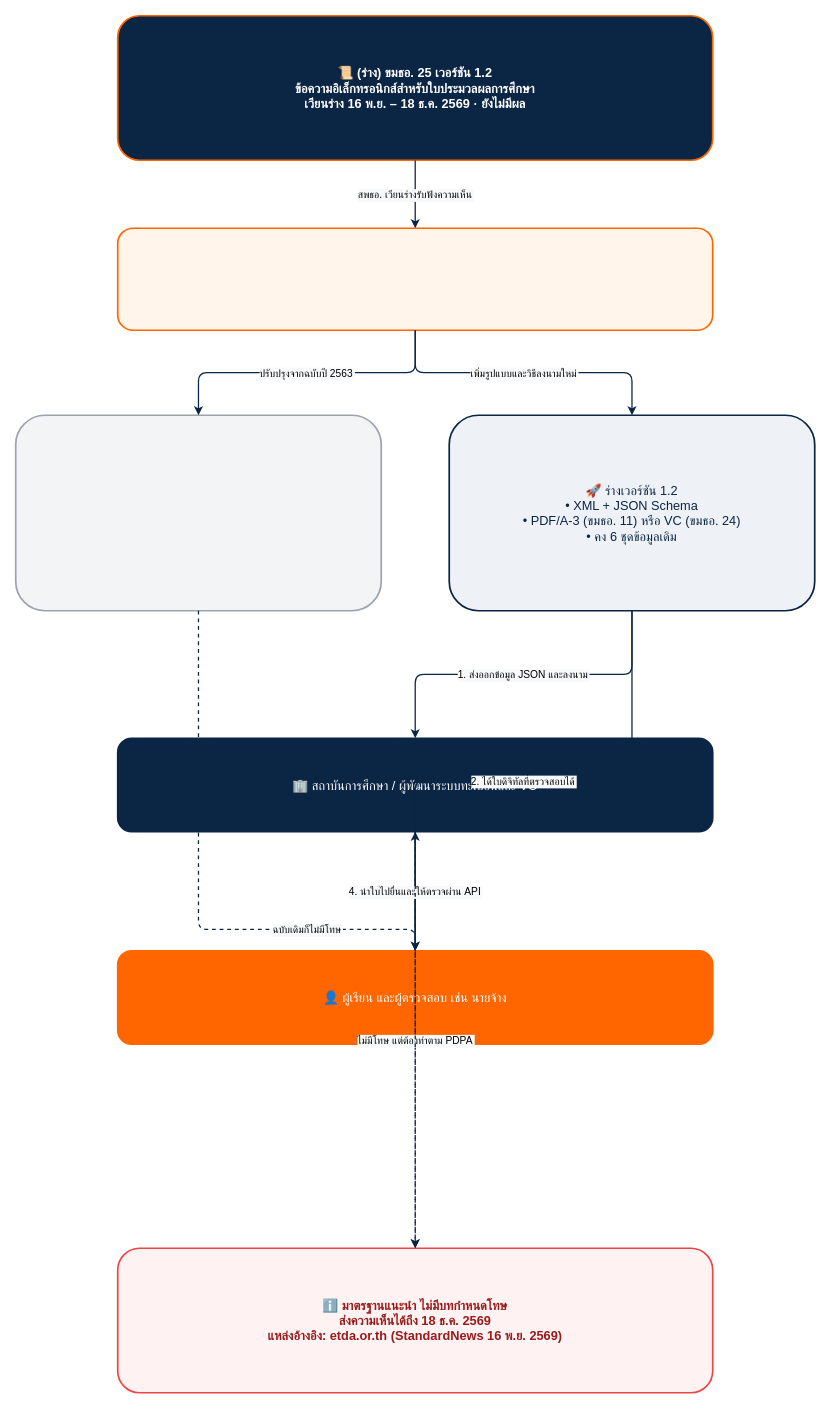
The diagram is 830 pixels wide and 1408 high, and some of its shapes have lost their labels. The centre of each missing label's shape, as x and y in pixels:
"เพิ่มโครงสร้างข้อมูล JSON คู่กับ XML รองรับ API และ Verifiable Credentials" belongs at point (414, 279).
"🏛️ ขมธอ. 25-2563 • XML อย่างเดียว • ลงนามแบบ XAdES (ขมธอ. 14) • Package 4 รายการ" belongs at point (198, 512).
